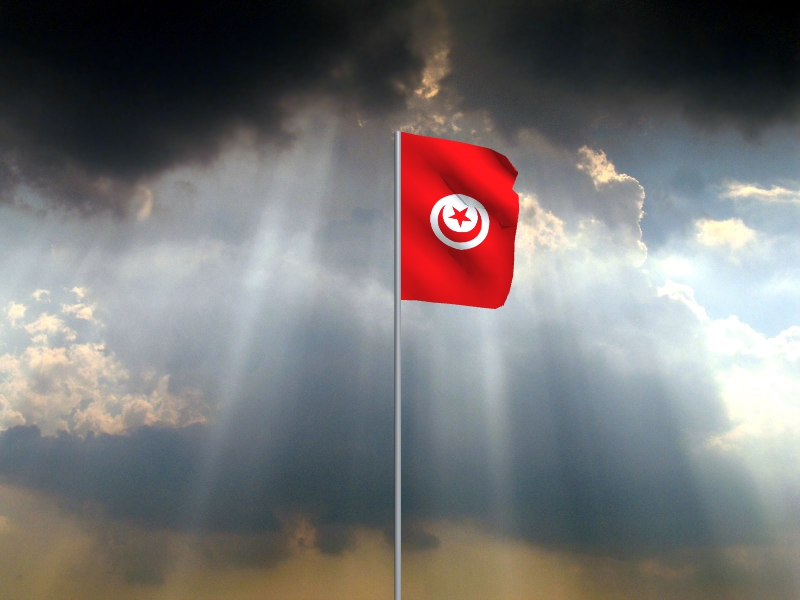tn: (401, 134, 520, 310)
